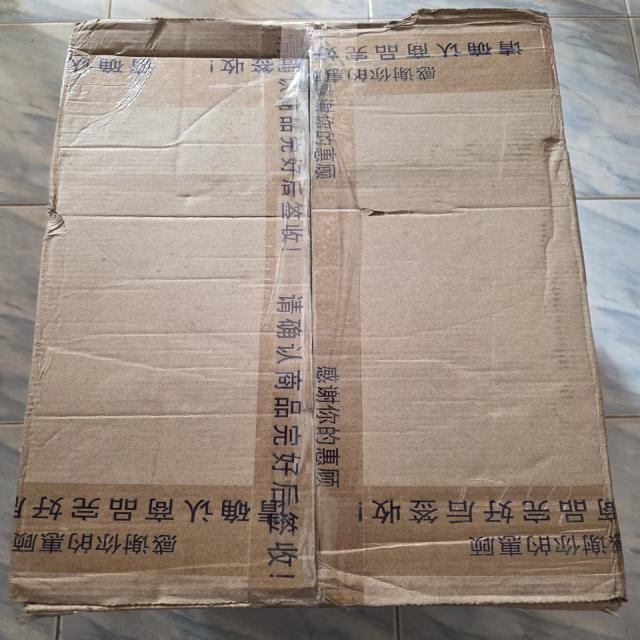carton_box: (7, 8, 630, 621)
package_damage: (200, 8, 460, 44), (35, 185, 81, 255)
